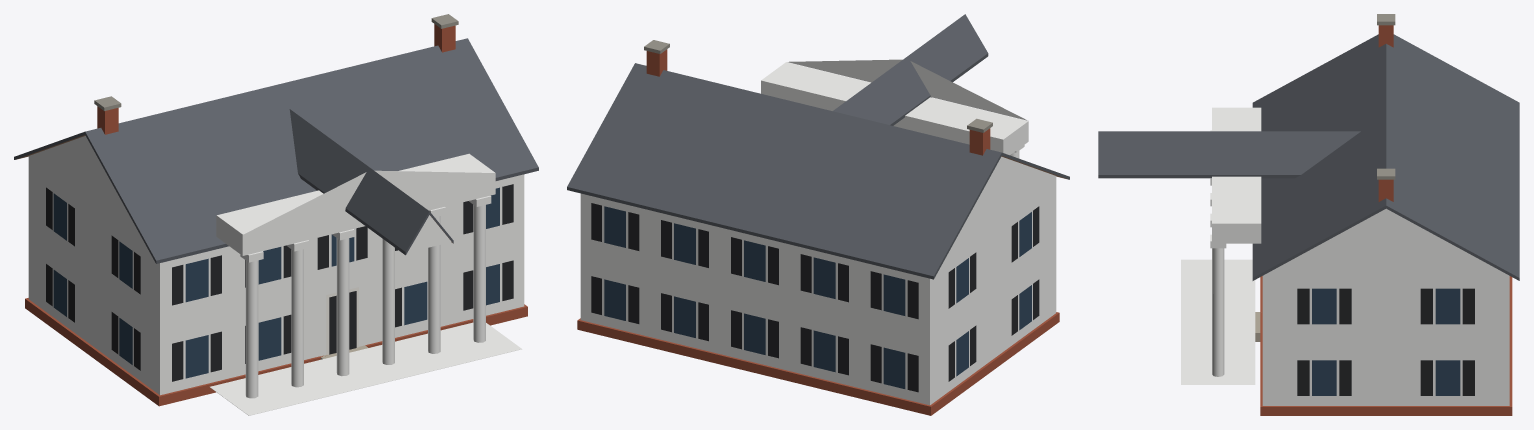
The model's file is maison_coloniale.glb.
3 views of the same model, side by side, from view 1: azimuth 30°, elevation 25°; view 2: azimuth 150°, elevation 25°; view 3: azimuth 270°, elevation 25° (orthographic). The views are drawn at different scales.
Visible parts, largest first — view 1: maison_coloniale; view 2: maison_coloniale; view 3: maison_coloniale.
Part boxes in pixels (x1,y1,x2,y2): maison_coloniale: [14, 14, 538, 415]; maison_coloniale: [567, 14, 1069, 415]; maison_coloniale: [1098, 14, 1519, 415].
Bounding box in the file's own units: 16.8 × 10.55 × 17.05.
Materials: 1 (1 with a texture image).
